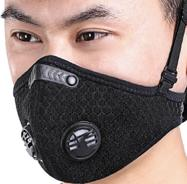with_mask: (1, 1, 187, 184)
